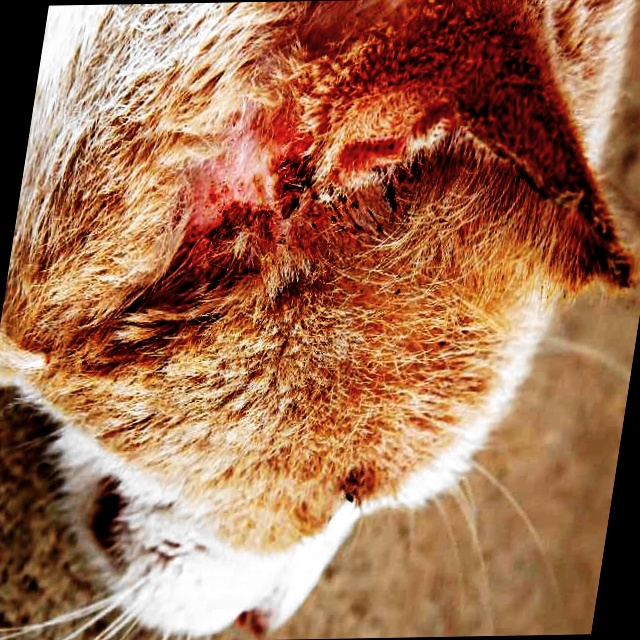ringworm: (150, 142, 406, 288)
